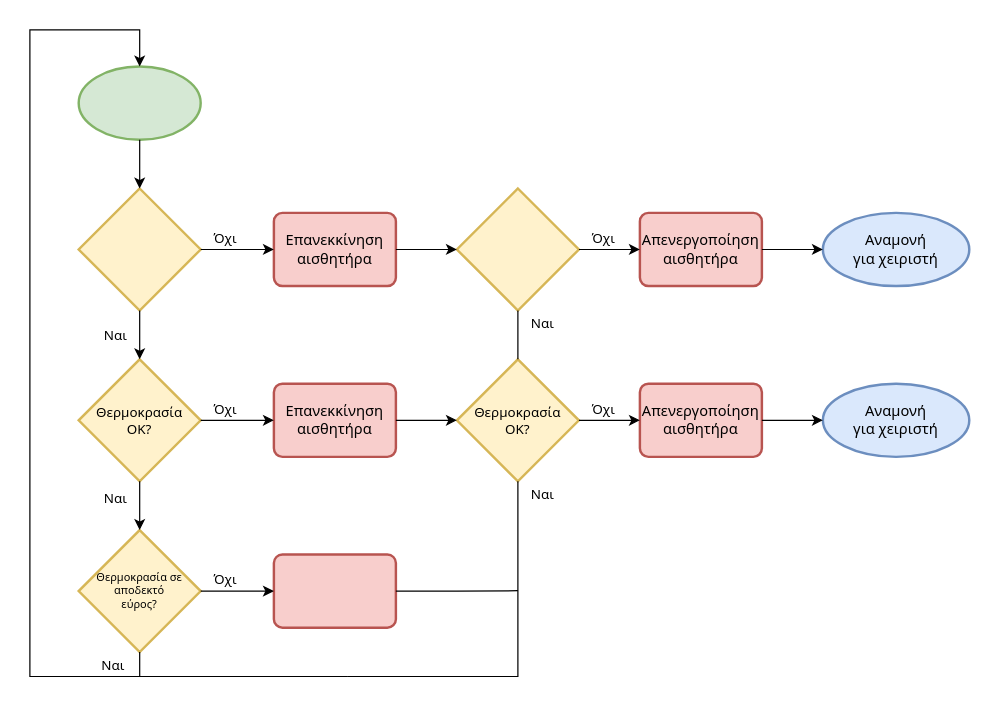
This 992x708 diagram has some shape labels left out. Each missing label, with the centre of its shape:
Sensor communication OK?: the point at 517,249
Έναρξη: the point at 139,102
Επανεκκίνηση υποσυστήματος: the point at 334,590
Επικοινωνία OK?: the point at 139,249
